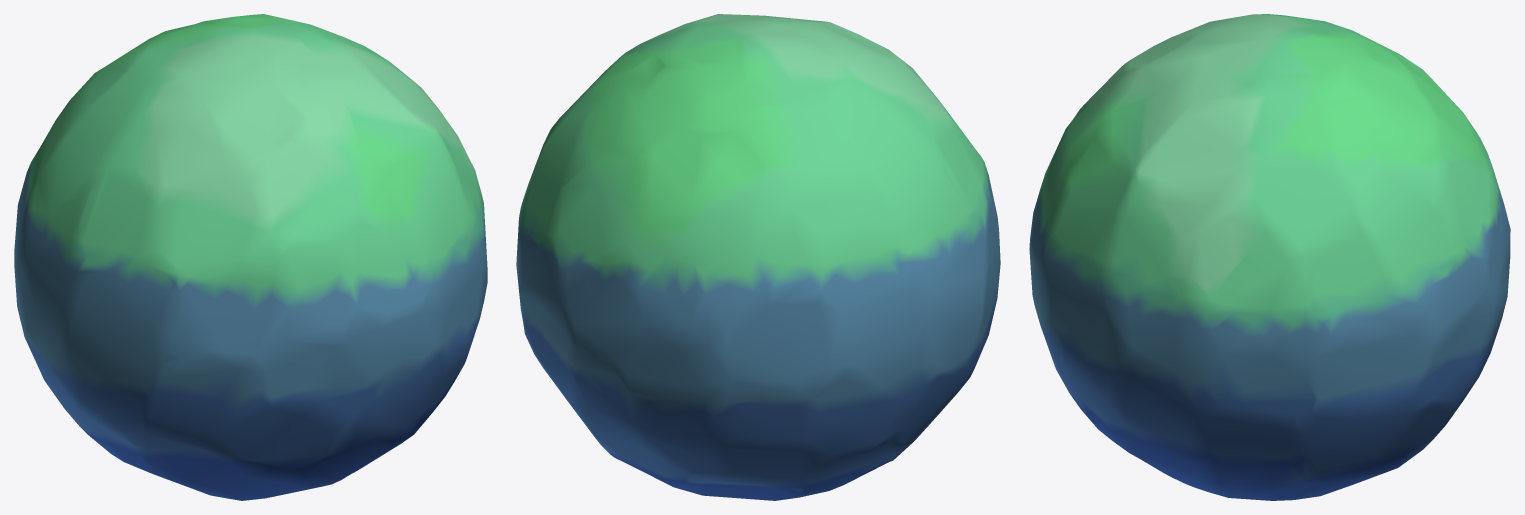
File: gen3d-planet-lod0.glb
The picture shows the model from 3 angles, left to right: view 1: azimuth 30°, elevation 25°; view 2: azimuth 150°, elevation 25°; view 3: azimuth 270°, elevation 25°; orthographic projection.
Parts seen in each view (by area): view 1: part_0; view 2: part_0; view 3: part_0.
Part boxes in pixels (box(x1,y1,x2,y2)): part_0: box(14, 14, 487, 500); part_0: box(516, 14, 1000, 500); part_0: box(1029, 14, 1510, 500).
Bounding box in the file's own units: 0.9779 × 0.9991 × 0.9861.
